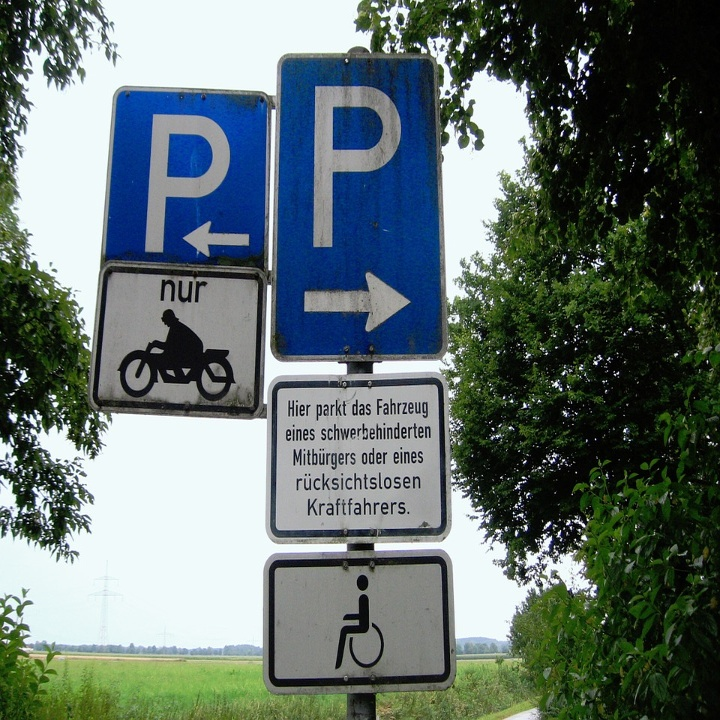parking: (307, 75, 410, 252), (138, 102, 234, 257)
